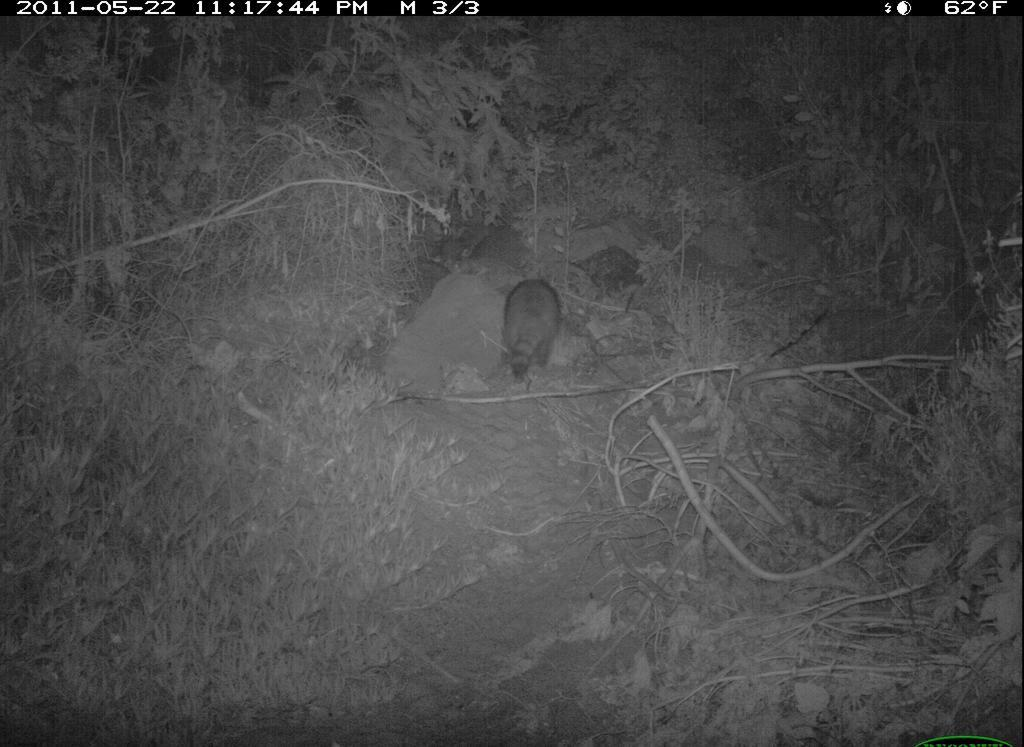raccoon: (487, 267, 574, 391)
